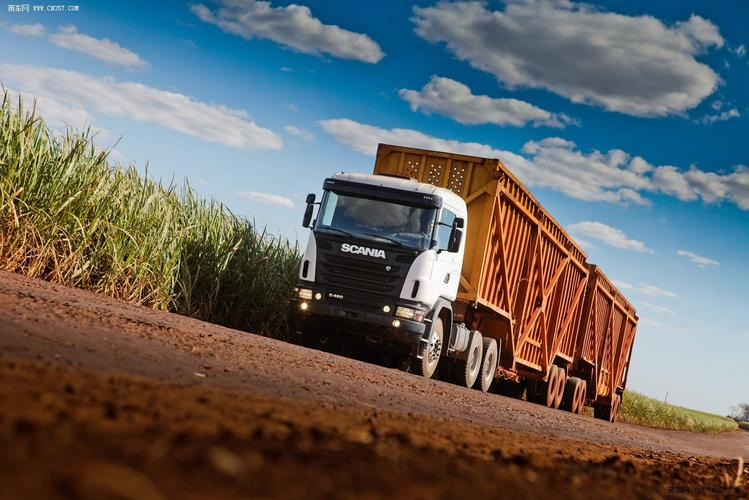卡车: (290, 138, 638, 425)
